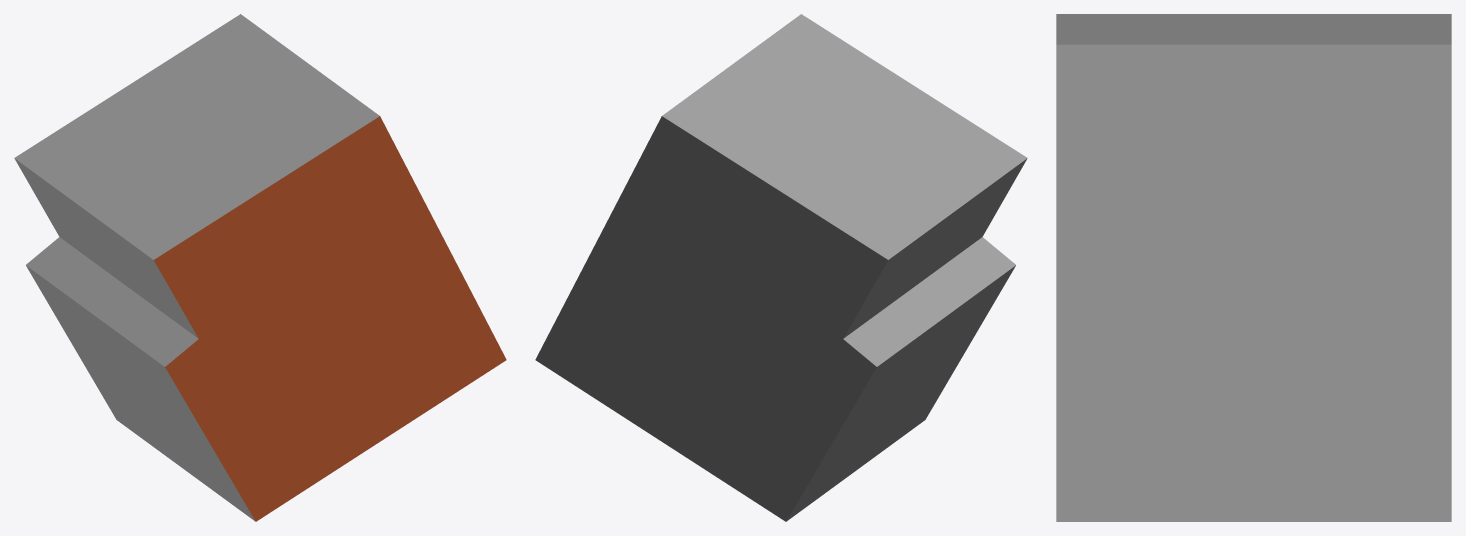
File: construction_1291_assumed_A_Casa_h6m.obj
3 renders of one model, left to right at view 1: azimuth 30°, elevation 25°; view 2: azimuth 150°, elevation 25°; view 3: azimuth 270°, elevation 25°, orthographic. The views are drawn at different scales.
Parts seen in each view (by area): view 1: construction_1291_assumed_A_Casa; view 2: construction_1291_assumed_A_Casa; view 3: construction_1291_assumed_A_Casa.
Part boxes in pixels (x1,y1,x2,y2): construction_1291_assumed_A_Casa: [14, 14, 506, 521]; construction_1291_assumed_A_Casa: [535, 14, 1027, 521]; construction_1291_assumed_A_Casa: [1056, 14, 1451, 521].
Bounding box in the file's own units: 8.77 × 8.92 × 6.
